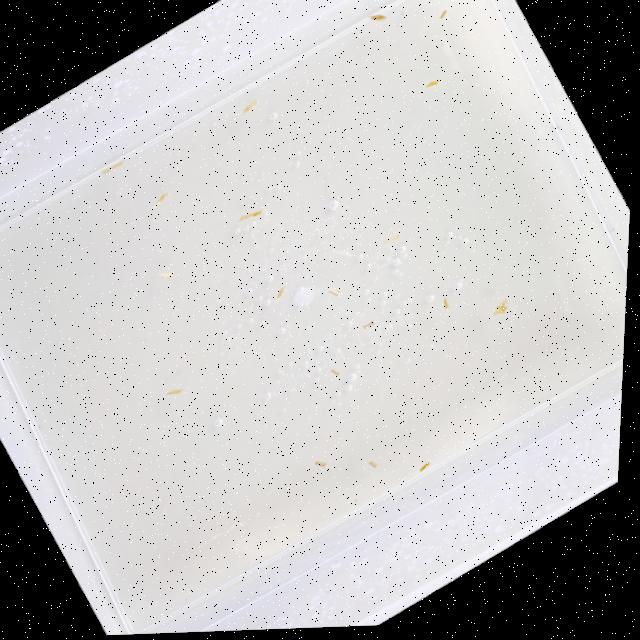Wereng: (228, 93, 267, 123), (229, 202, 267, 230), (92, 153, 130, 180), (485, 294, 518, 322), (363, 2, 393, 31), (146, 262, 178, 289), (143, 190, 174, 216), (434, 290, 457, 318), (266, 281, 292, 304), (376, 229, 403, 249), (307, 454, 331, 476), (161, 381, 185, 402), (430, 5, 454, 26), (411, 456, 437, 475), (421, 72, 441, 91), (321, 284, 341, 301), (357, 316, 376, 333), (363, 457, 379, 472), (324, 364, 340, 379)
